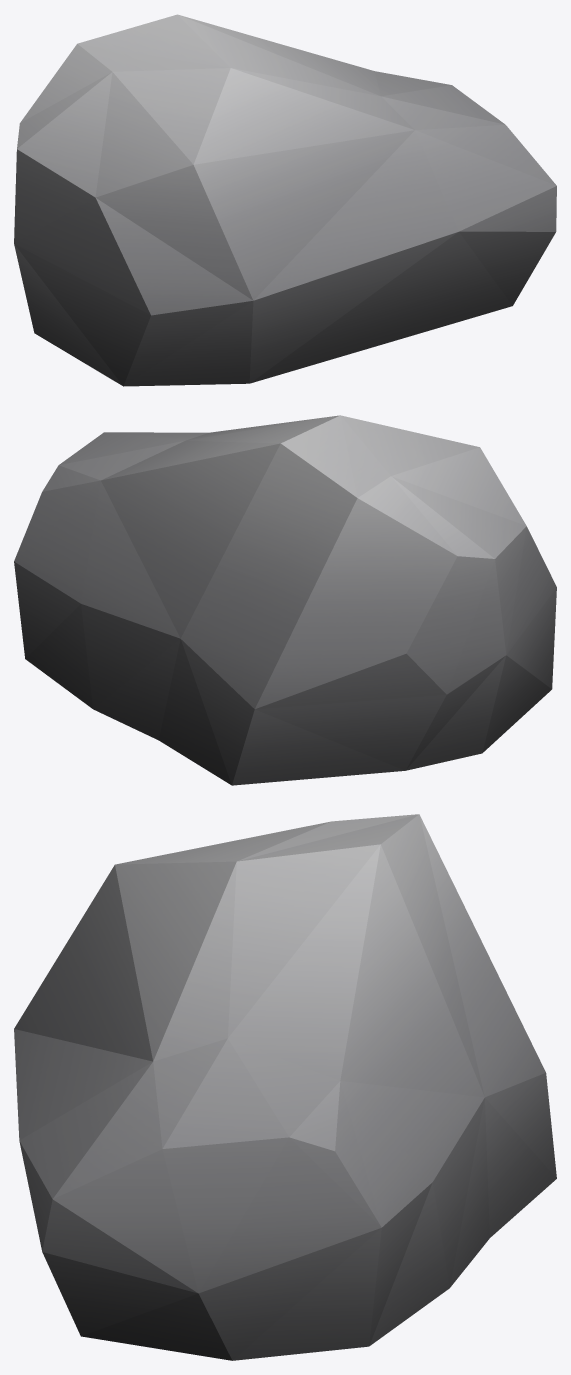
Rendered from RockLrg-01.FBX.
The picture shows the model from 3 angles, top to bottom: view 1: azimuth 30°, elevation 25°; view 2: azimuth 150°, elevation 25°; view 3: azimuth 270°, elevation 25°; orthographic projection. The views are drawn at different scales.
Parts seen in each view (by area): view 1: RockLrg-01; view 2: RockLrg-01; view 3: RockLrg-01.
Boxes of the visible parts, x1,y1,x2,y2 form: RockLrg-01: (14,14,556,386); RockLrg-01: (14,415,556,785); RockLrg-01: (14,814,556,1360).
Bounding box in the file's own units: 539 × 296 × 417.
1 material, 1 textured.
